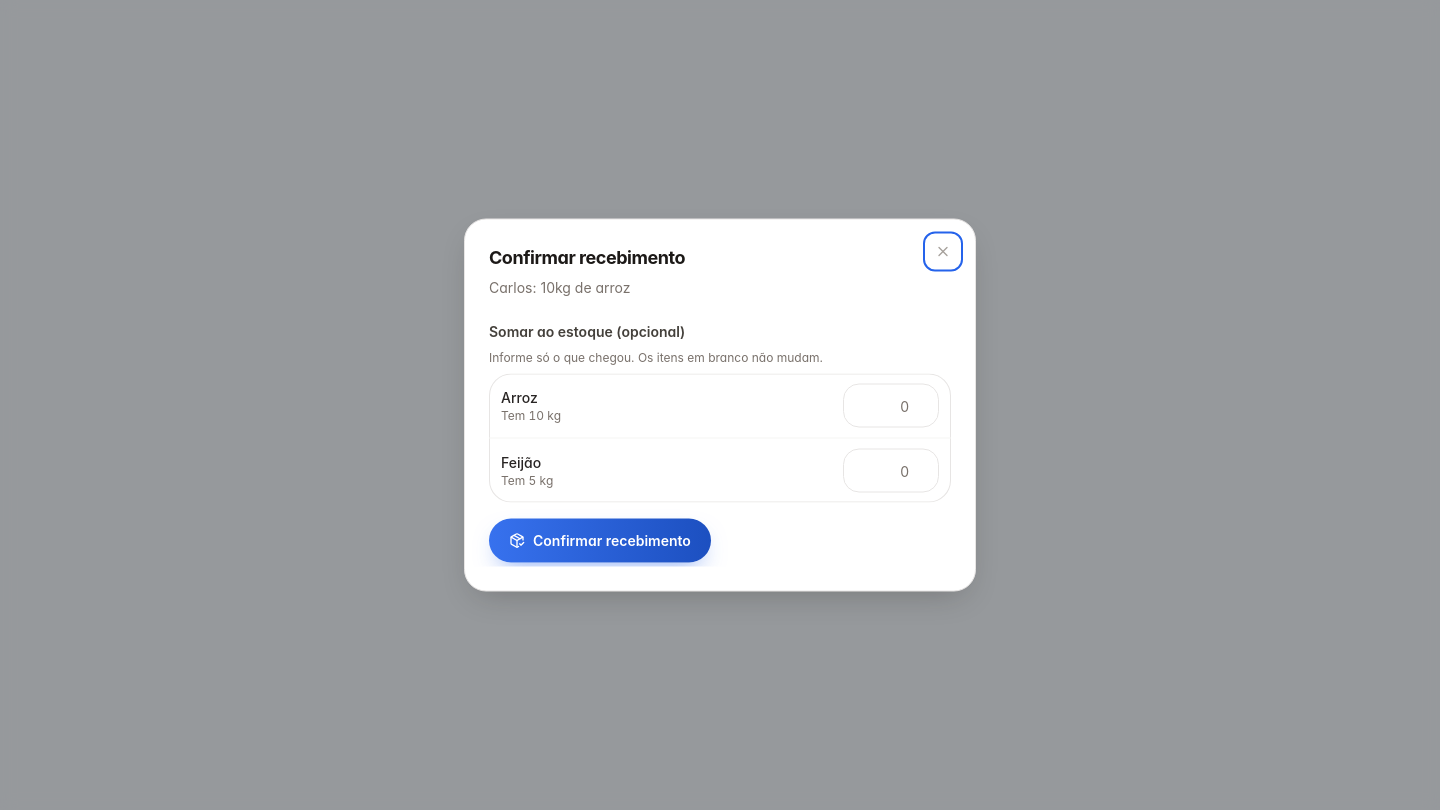
ReceiveDonationModal › mostra o erro da API e não fecha
Click the button "Confirmar recebimento" at (600, 540), box [489,518,711,562]
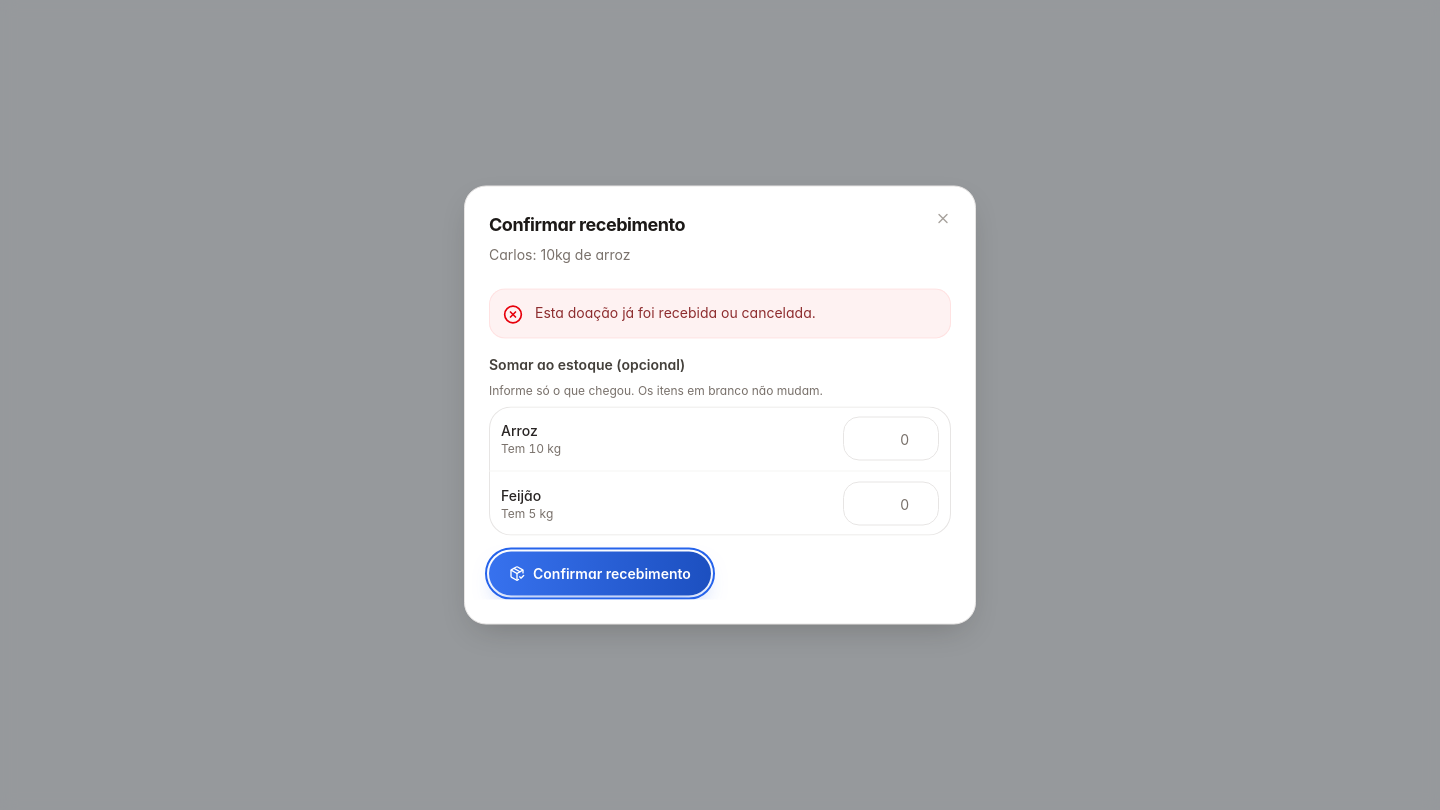
Check: the text "Esta doação já foi recebida ou cancelada." is shown, box [535,302,816,322]
